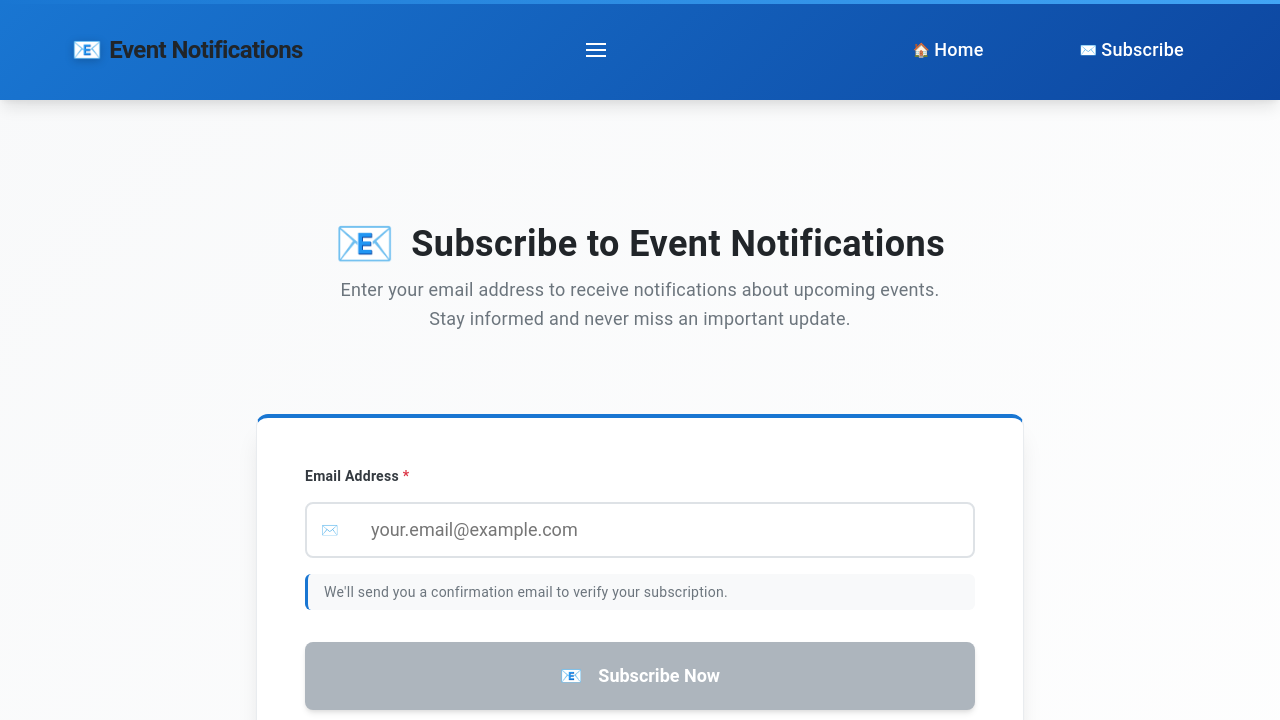
Test: Cross-Browser Compatibility Tests › Network and HTTP Compatibility › should handle network timeouts gracefully
Expected: the form with test id "subscription-form" is shown, [305,466,975,710]
Step 1. Type "test@example.com" into the field with id "email" → x=640, y=530, box [305,502,975,558]
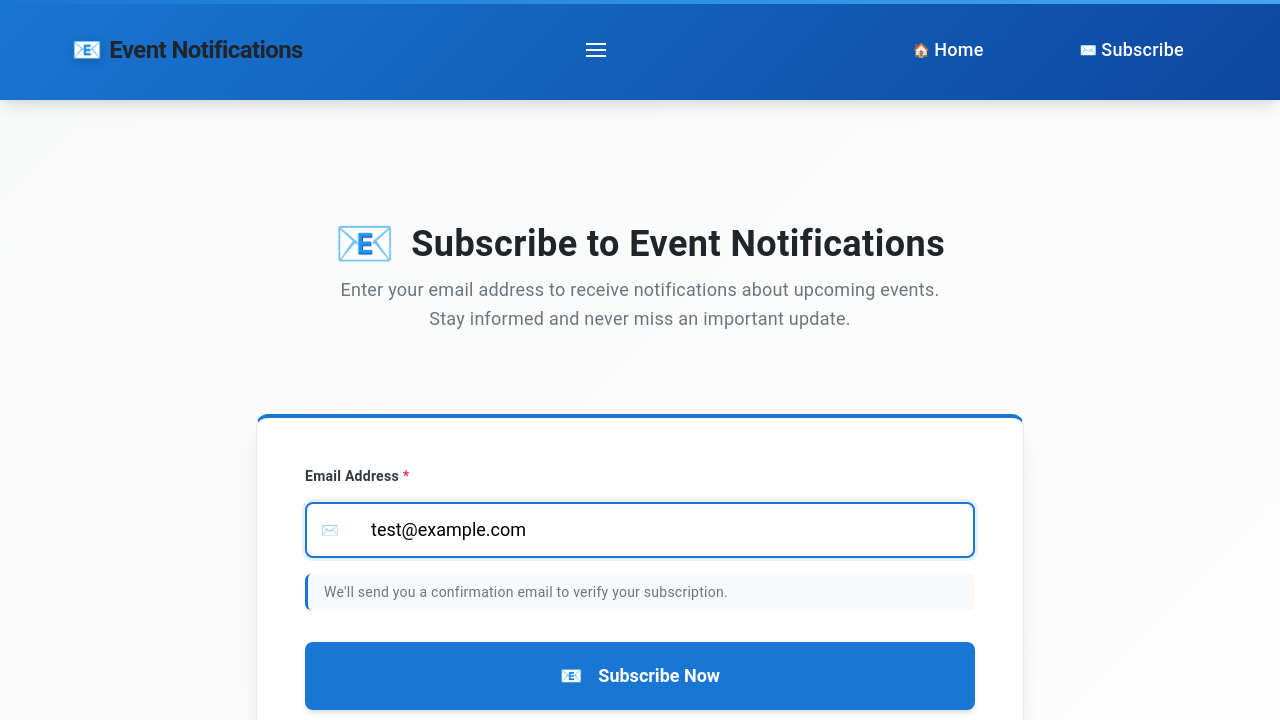
Step 2. Click the submit button → x=640, y=676, box [305,642,975,710]
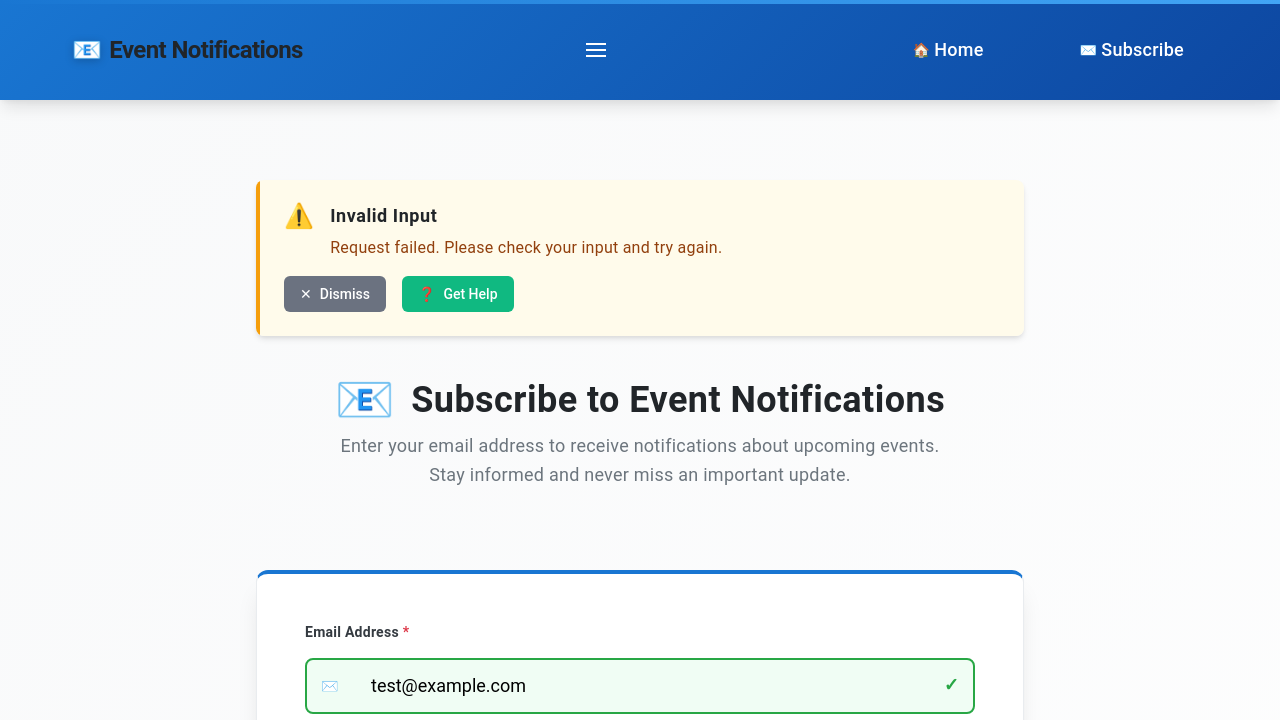
Now the element with class "error-message" is shown, box [256,180,1024,336]
